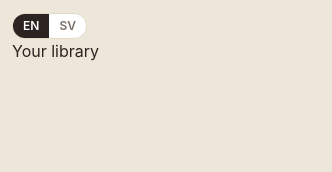
LanguageSwitcher › switches the whole page from English to Swedish and back
expect the heading "Your library" is shown: met, box [12,41,99,61]
Click the button "SV": [68, 26] box [49,14,86,38]
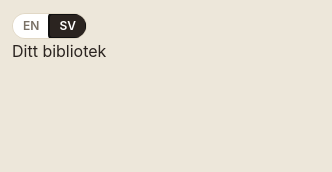
expect the heading "Ditt bibliotek" is shown: met, box [12,41,106,61]
Click the button "EN": [31, 26] box [13,14,49,38]
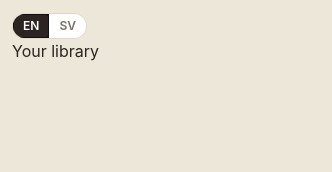
expect the heading "Your library" is shown: met, box [12,41,99,61]
